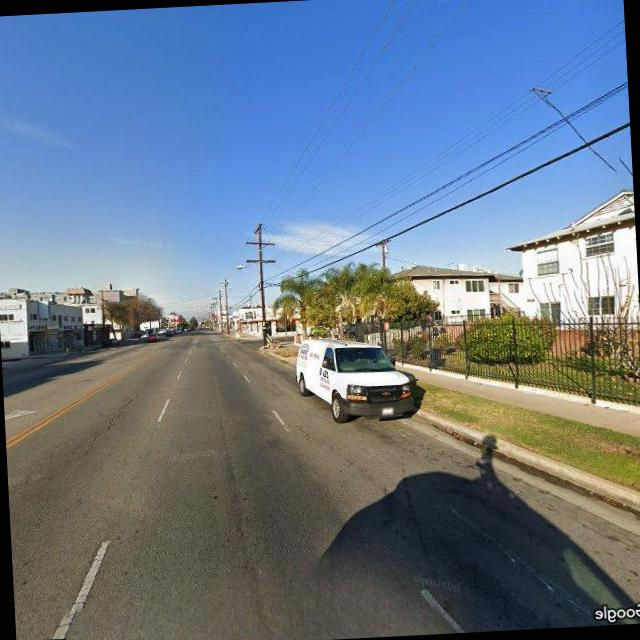pothole: (70, 390, 144, 460)
